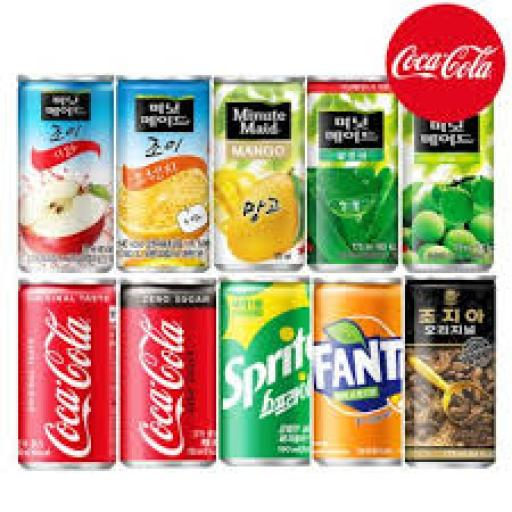Coca: (13, 270, 120, 475)
